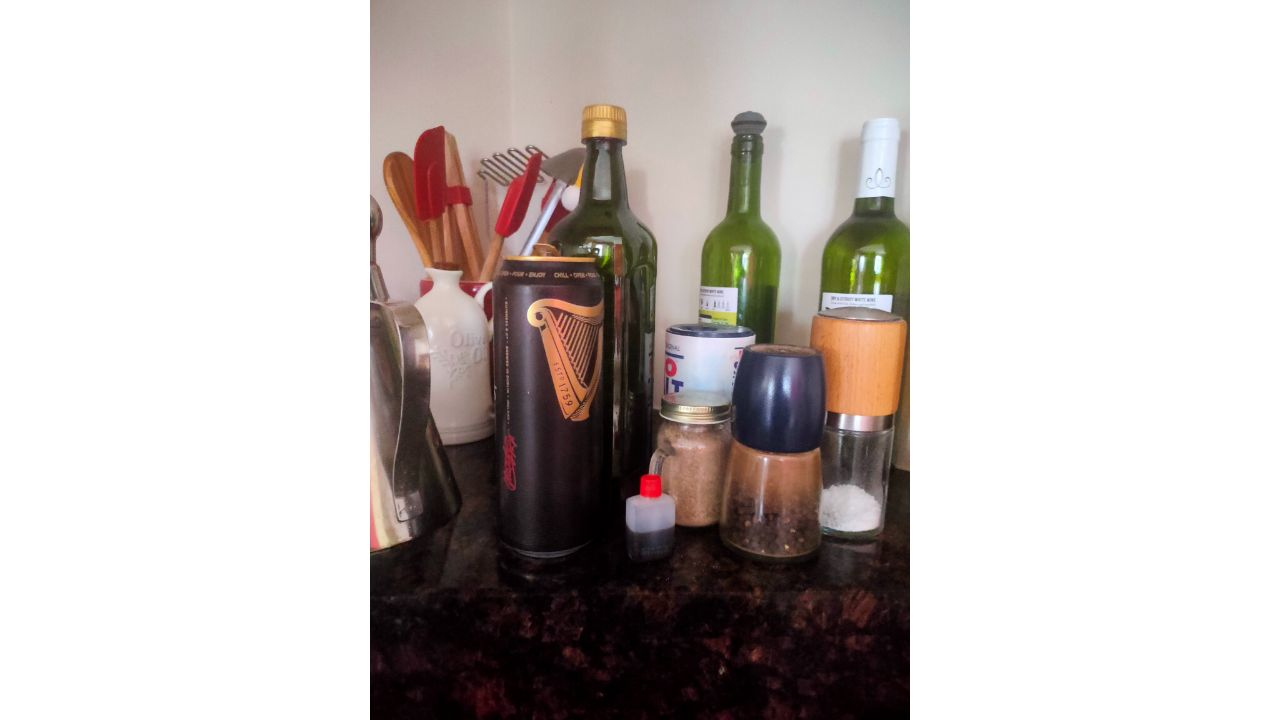Can: (494, 252, 614, 581)
